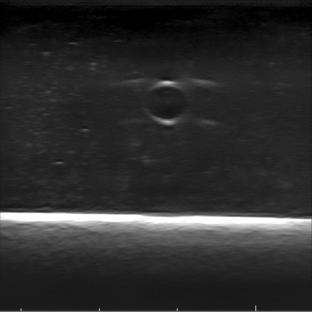vessel: (140, 80, 193, 125)
